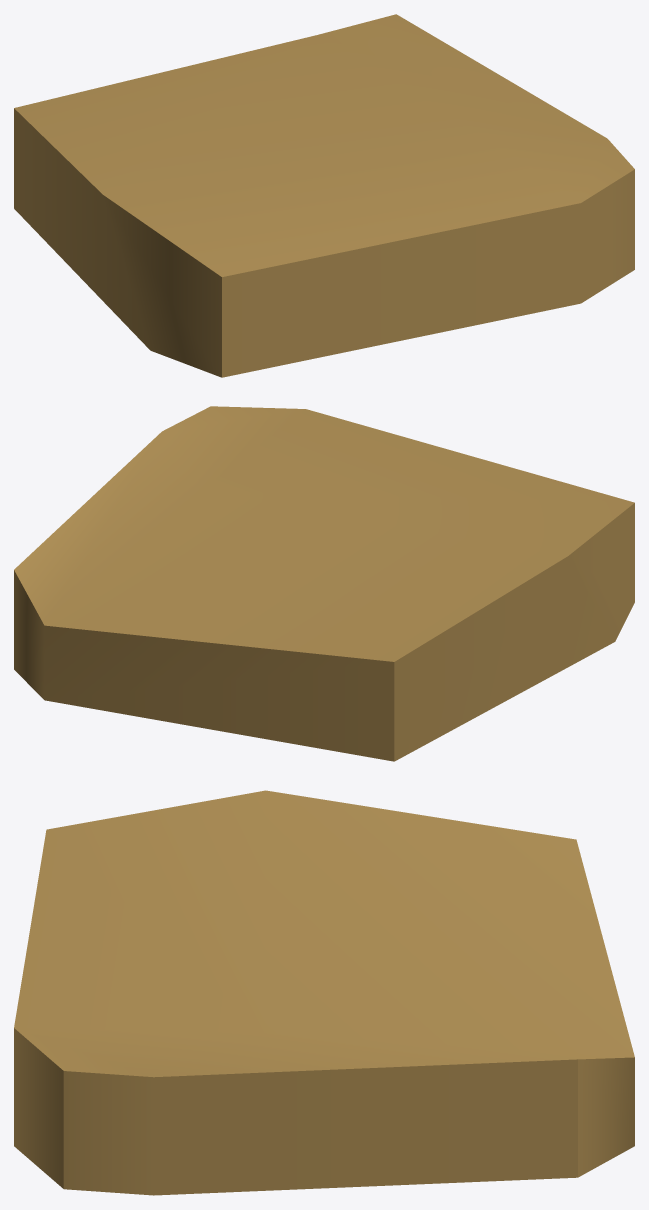
File: path2_Raw.fbx
3 renders of one model, top to bottom at view 1: azimuth 30°, elevation 25°; view 2: azimuth 150°, elevation 25°; view 3: azimuth 270°, elevation 25°, orthographic. The views are drawn at different scales.
Parts seen in each view (by area): view 1: pCube1; view 2: pCube1; view 3: pCube1.
Boxes of the visible parts, bbox=[...] form: pCube1: bbox=[14, 14, 634, 377]; pCube1: bbox=[14, 406, 634, 761]; pCube1: bbox=[14, 790, 634, 1195].
Bounding box in the file's own units: 1.99 × 0.505 × 1.99.
